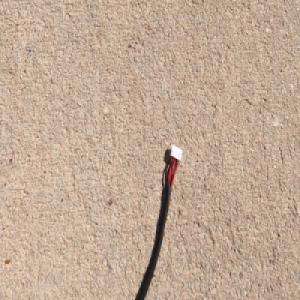Wire: (131, 140, 184, 300)
